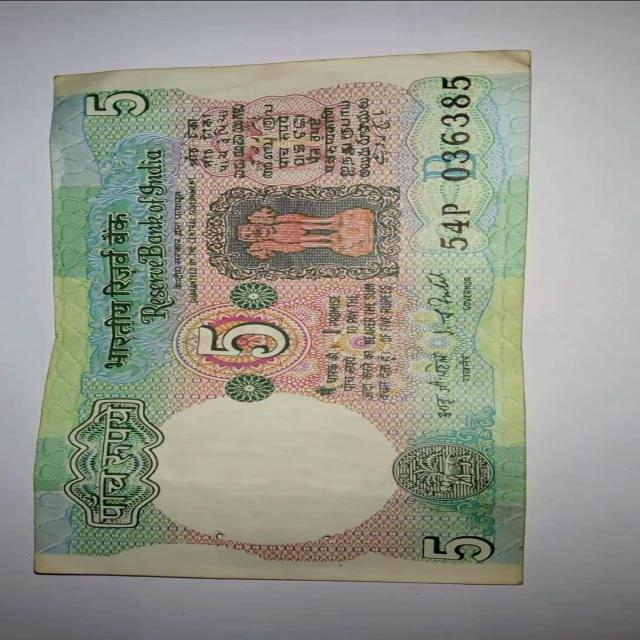5IndianRupees: (27, 40, 531, 585)
